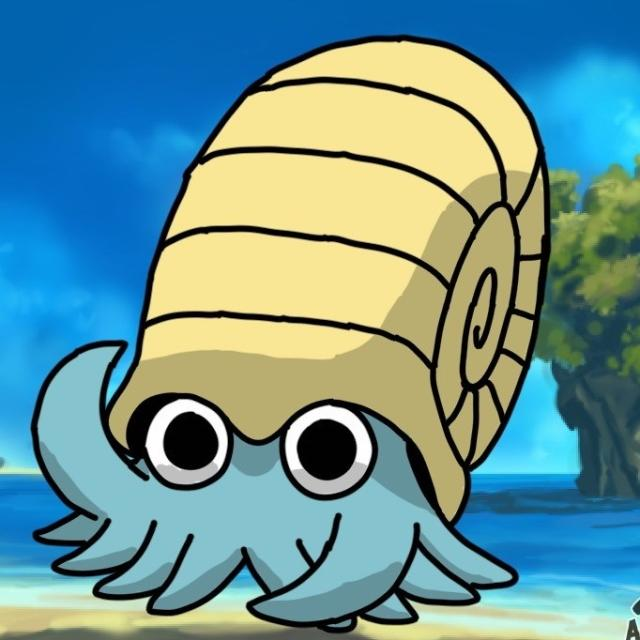Omanyte: (13, 27, 575, 640)
